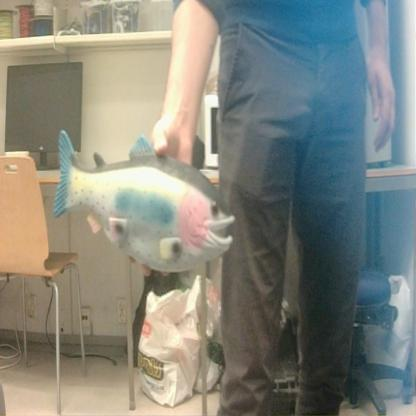rubberfish: (53, 127, 237, 276)
